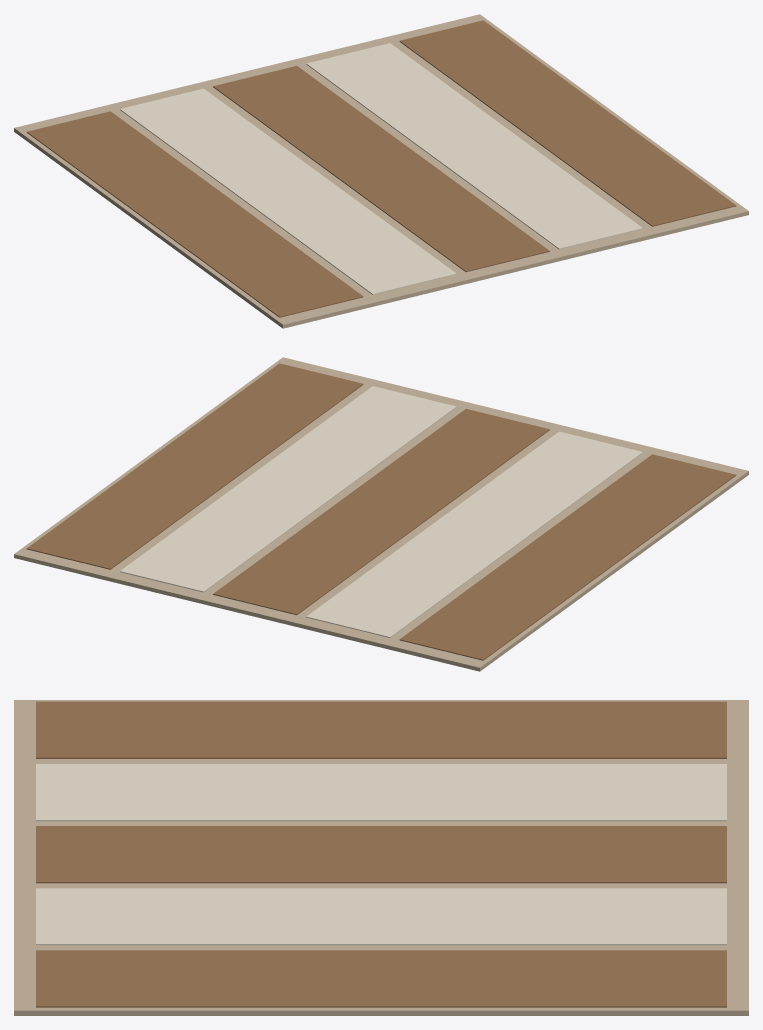
The picture shows the model from 3 angles, top to bottom: view 1: azimuth 30°, elevation 25°; view 2: azimuth 150°, elevation 25°; view 3: azimuth 270°, elevation 25°; orthographic projection. The views are drawn at different scales.
Visible parts, largest first — view 1: floor-base, plank-4, plank-0, plank-1, plank-3, plank-2; view 2: floor-base, plank-4, plank-0, plank-1, plank-3, plank-2; view 3: plank-0, plank-1, plank-2, plank-3, plank-4, floor-base.
Part boxes in pixels (x1,y1,x2,y2): floor-base: (14, 14, 748, 328); plank-4: (399, 20, 736, 226); plank-0: (26, 111, 363, 317); plank-1: (120, 88, 456, 294); plank-3: (306, 43, 642, 249); plank-2: (213, 66, 549, 272); floor-base: (14, 357, 748, 671); plank-4: (26, 363, 363, 569); plank-0: (399, 454, 736, 660); plank-1: (306, 431, 642, 637); plank-3: (120, 386, 456, 592); plank-2: (213, 409, 549, 615); plank-0: (36, 701, 726, 758); plank-1: (36, 764, 726, 821); plank-2: (36, 826, 726, 883); plank-3: (36, 888, 726, 945); plank-4: (36, 950, 726, 1007); floor-base: (14, 700, 748, 1015).
Bounding box in the file's own units: 1 × 0.01 × 1.
